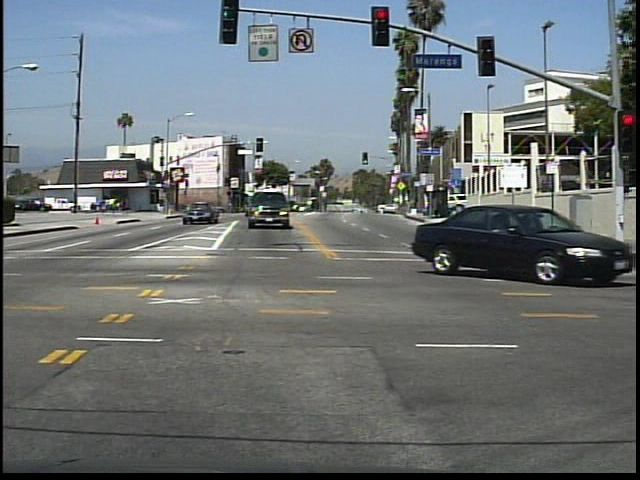person: (121, 195, 133, 219)
